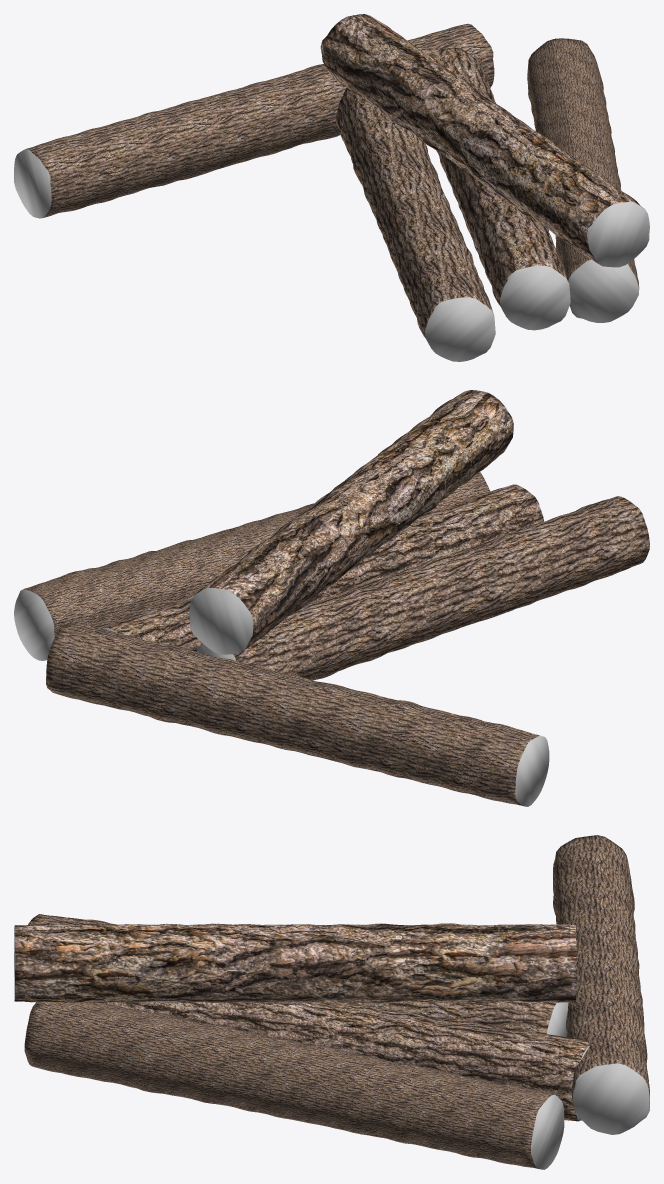
File: log_cgt_5.obj
The picture shows the model from 3 angles, top to bottom: view 1: azimuth 30°, elevation 25°; view 2: azimuth 150°, elevation 25°; view 3: azimuth 270°, elevation 25°; orthographic projection. The views are drawn at different scales.
Parts seen in each view (by area): view 1: Log_mesh5_Cylinder.004; view 2: Log_mesh5_Cylinder.004; view 3: Log_mesh5_Cylinder.004.
Part boxes in pixels (x1=…): Log_mesh5_Cylinder.004: x1=14, y1=14, x2=649, y2=361; Log_mesh5_Cylinder.004: x1=14, y1=390, x2=649, y2=806; Log_mesh5_Cylinder.004: x1=14, y1=835, x2=649, y2=1169.
Bounding box in the file's own units: 3.15 × 0.7558 × 3.
